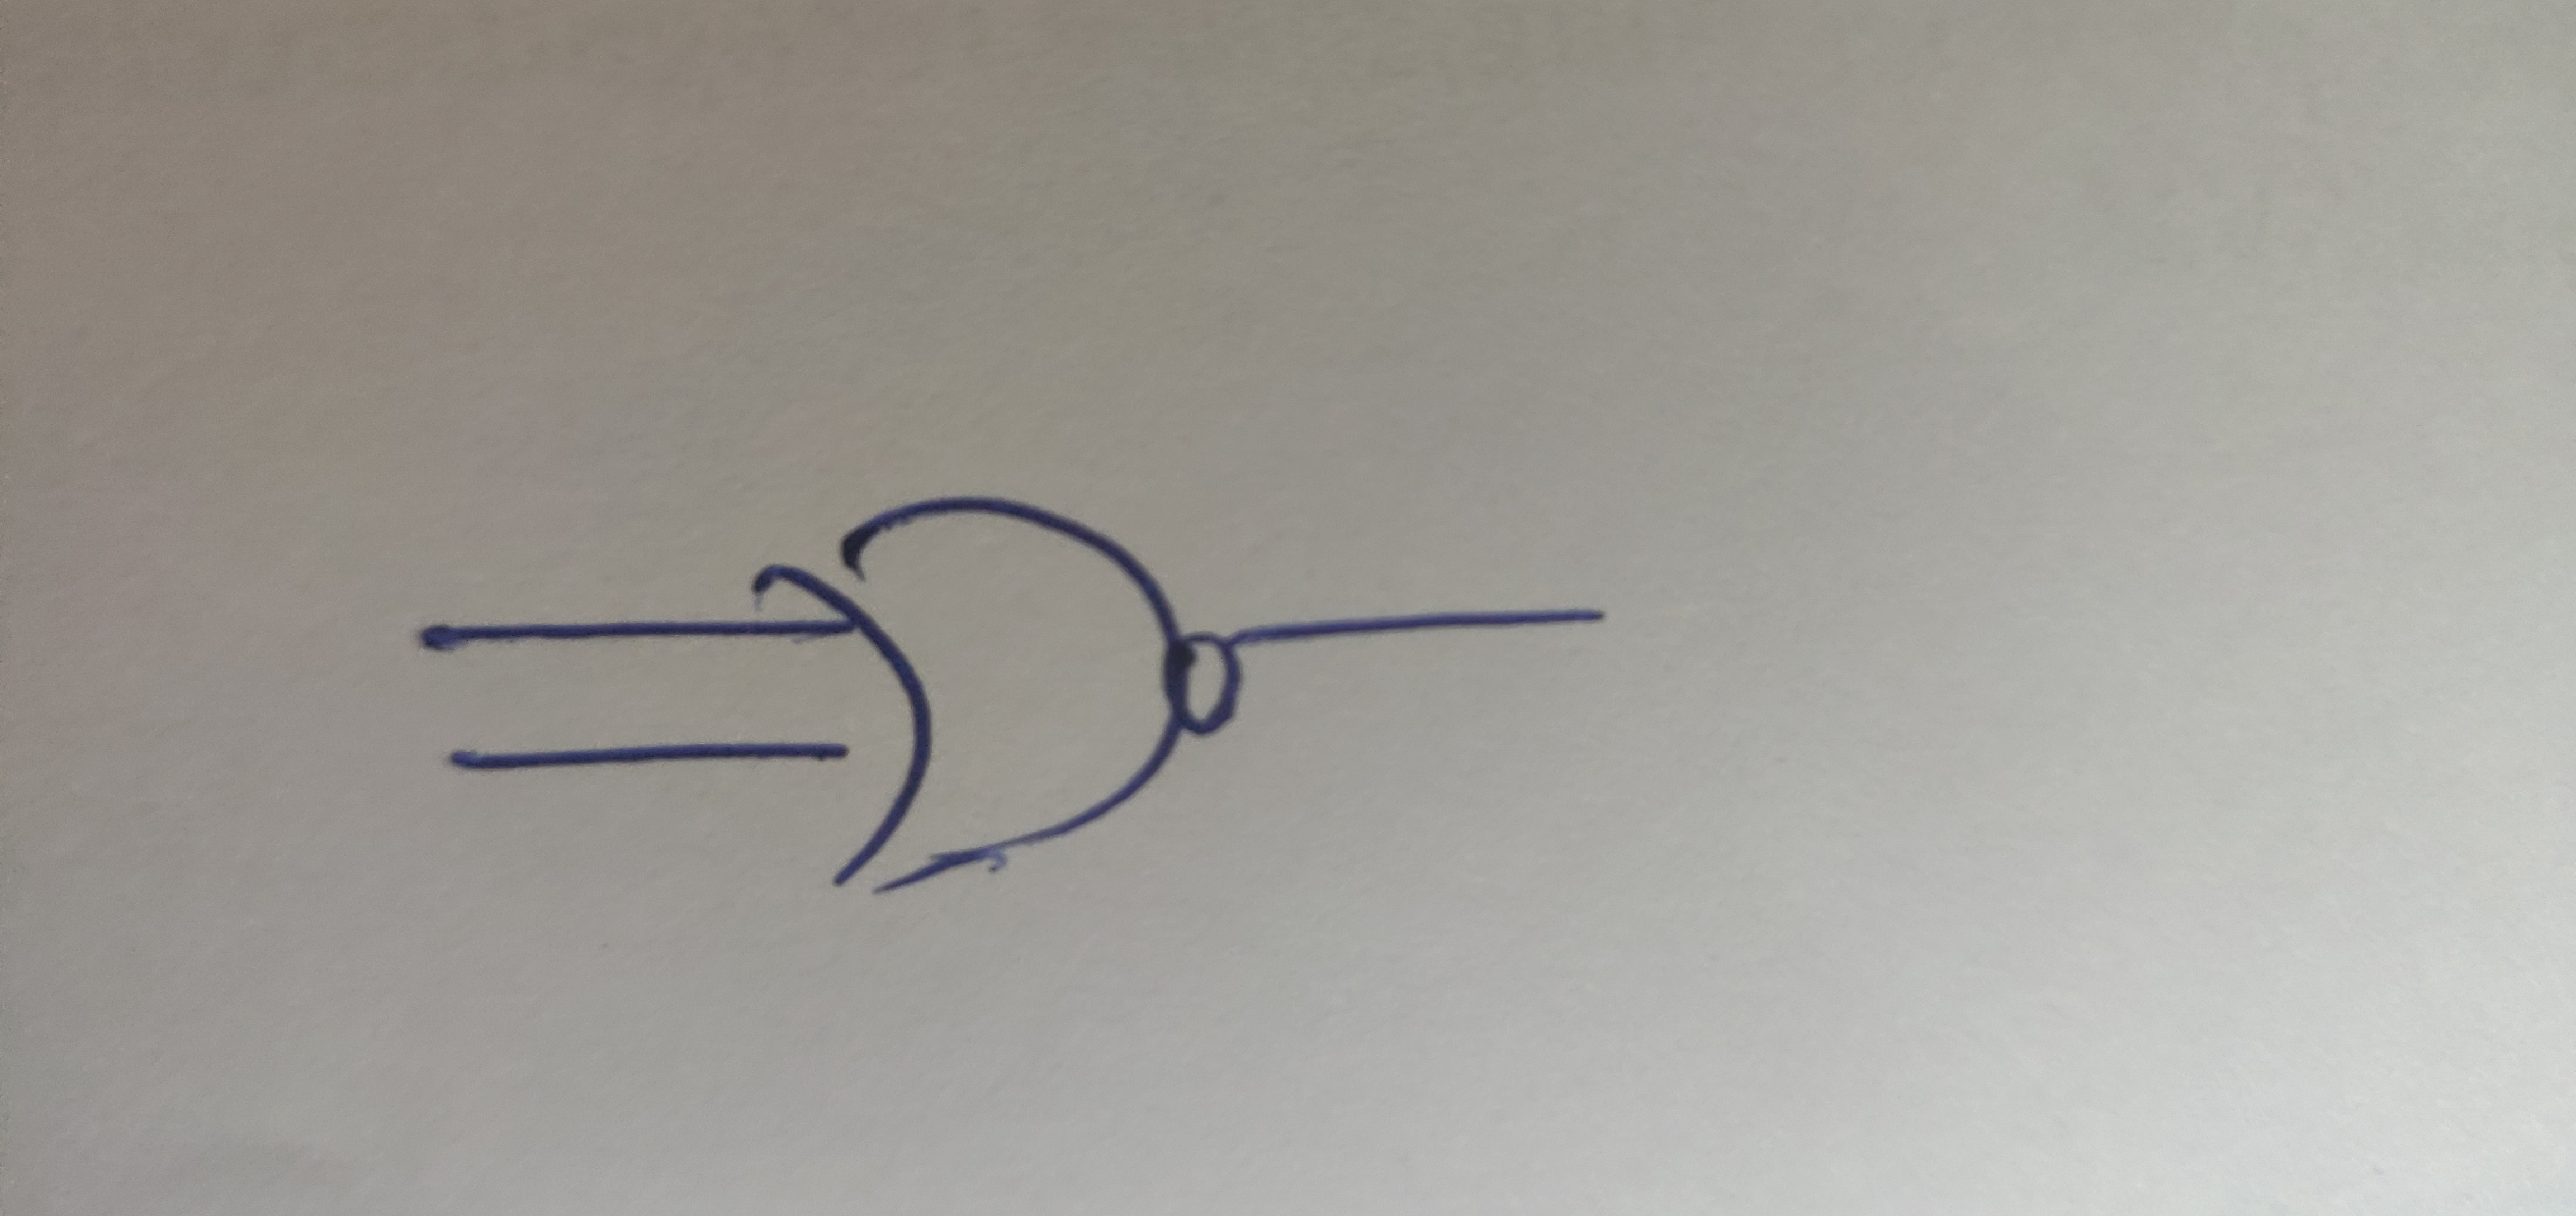nor: (713, 434, 1347, 976)
